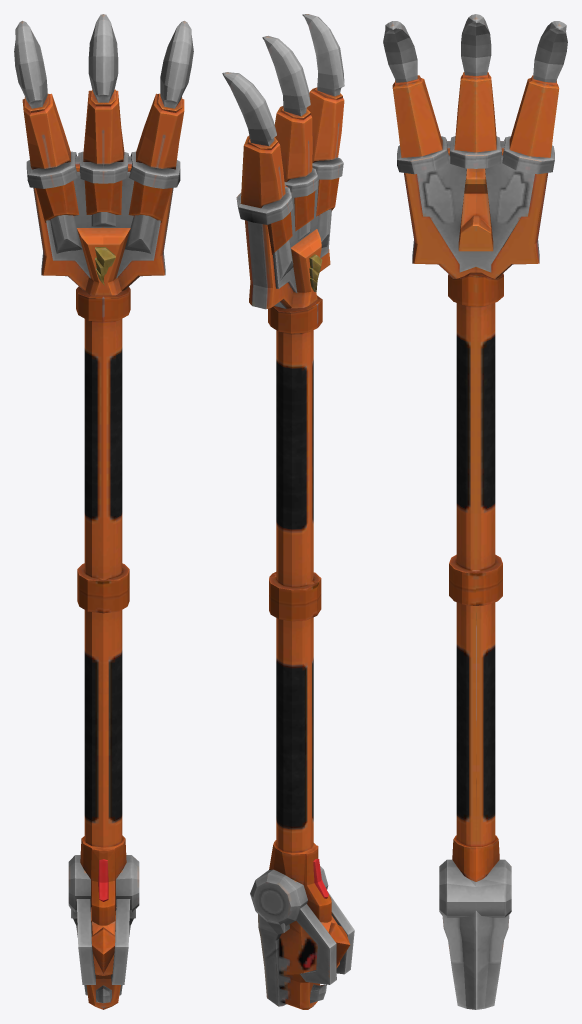
The model's file is RngF_S30_T1_orange_staff.fbx.
The picture shows the model from 3 angles, left to right: view 1: azimuth 90°, elevation 25°; view 2: azimuth 150°, elevation 25°; view 3: azimuth 270°, elevation 25°; orthographic projection. The views are drawn at different scales.
Visible parts, largest first — view 1: RngF_S30_T1_orange_staff; view 2: RngF_S30_T1_orange_staff; view 3: RngF_S30_T1_orange_staff.
Boxes of the visible parts, box(x1,y1,x2,y2) form: RngF_S30_T1_orange_staff: box(14, 14, 193, 1009); RngF_S30_T1_orange_staff: box(222, 14, 354, 1009); RngF_S30_T1_orange_staff: box(383, 14, 567, 1009).
Size of the model in its own units: 23.12 by 227 by 38.02.
Materials: 1 (1 with a texture image).
